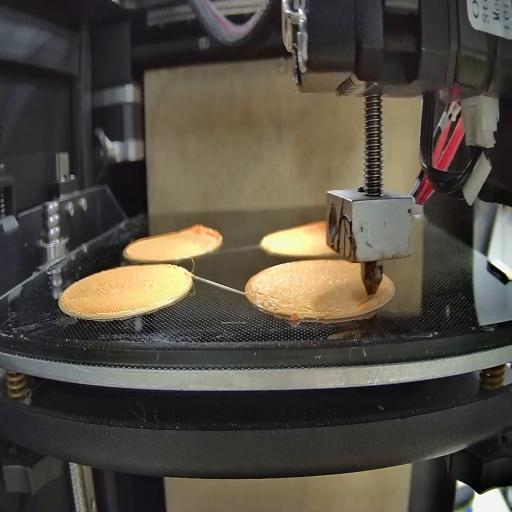over_extrusion: (188, 220, 222, 242), (353, 294, 378, 310)
